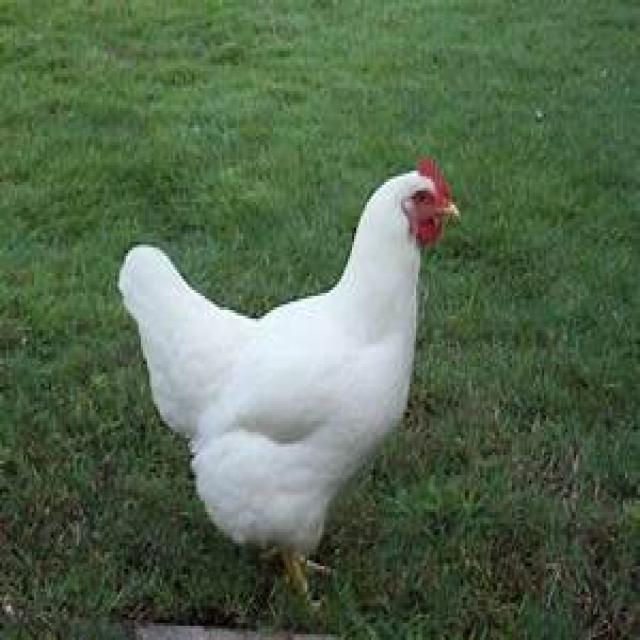animal: (93, 151, 468, 635)
